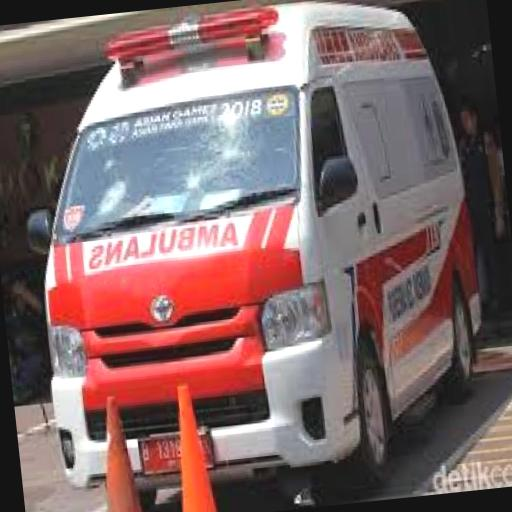Police car: (10, 0, 495, 503)
